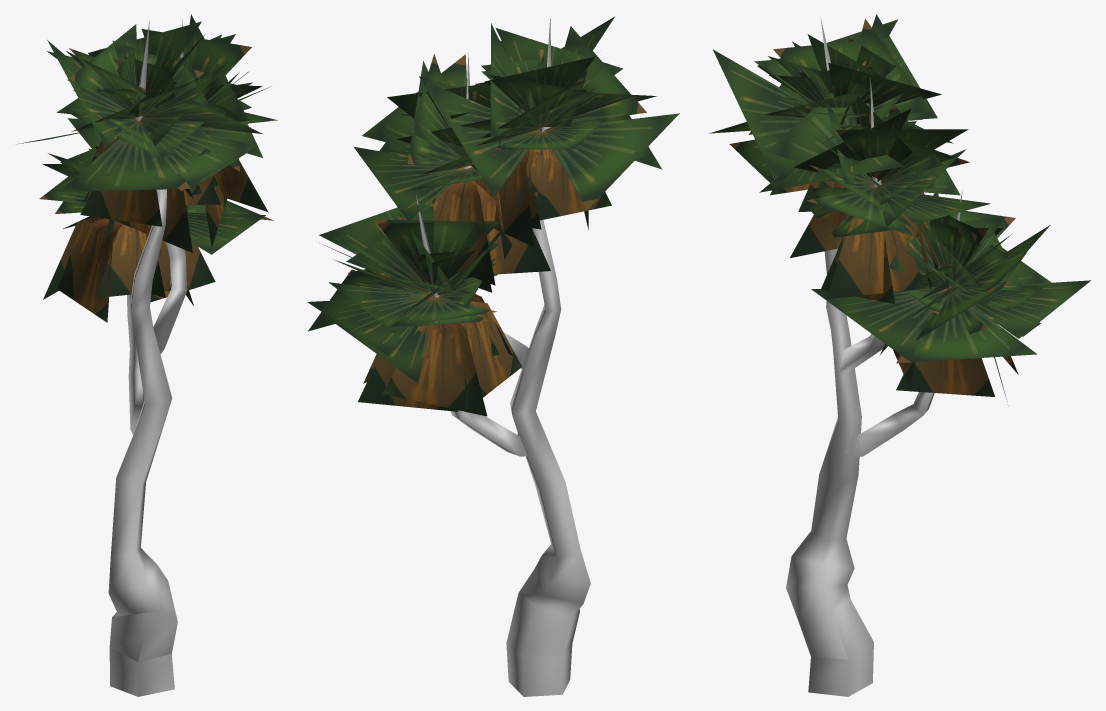
File: Tree_09_2_L3.fbx
3 views of the same model, side by side, from view 1: azimuth 30°, elevation 25°; view 2: azimuth 150°, elevation 25°; view 3: azimuth 270°, elevation 25° (orthographic).
Parts seen in each view (by area): view 1: polySurface72; view 2: polySurface72; view 3: polySurface72.
Boxes of the visible parts, x1,y1,x2,y2 form: polySurface72: (18, 14, 277, 696); polySurface72: (307, 16, 679, 696); polySurface72: (709, 14, 1090, 696).
Size of the model in its own units: 525 by 1207 by 628.
